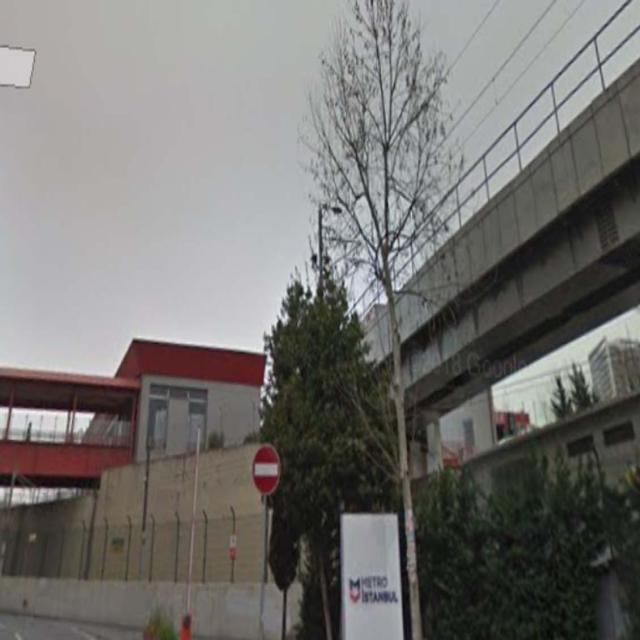girisyok: (251, 444, 283, 494)
